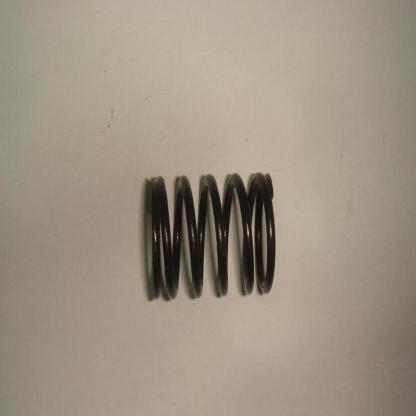FOD: (142, 168, 280, 302)
